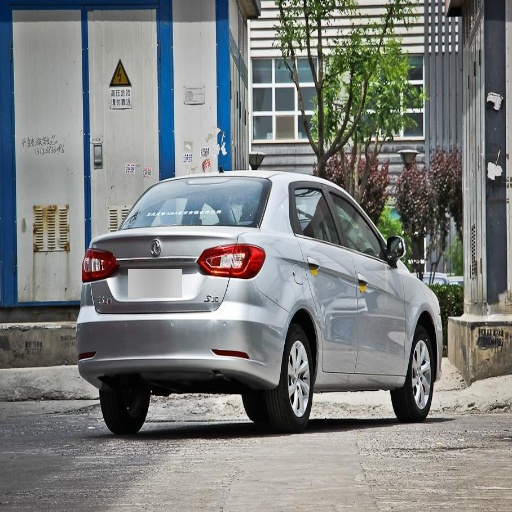back_bumper: (78, 277, 289, 386)
back_right_door: (289, 181, 357, 374)
tailgate: (94, 227, 216, 307)
trunk: (100, 230, 243, 314)
